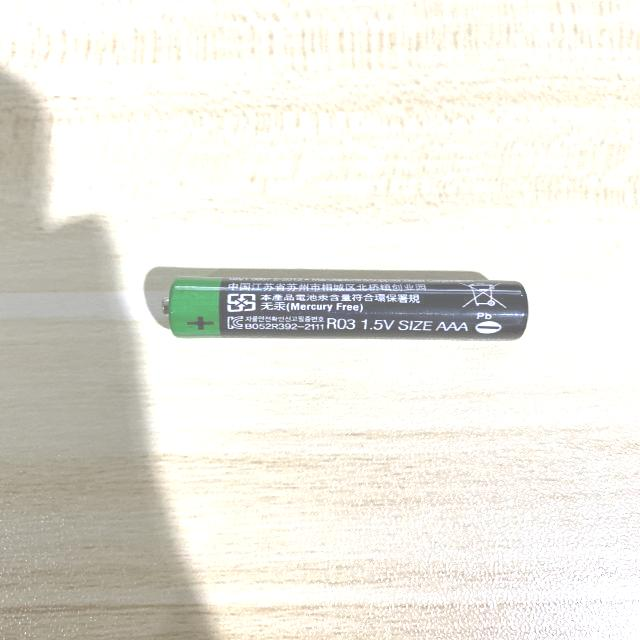AAA: (160, 278, 528, 340)
